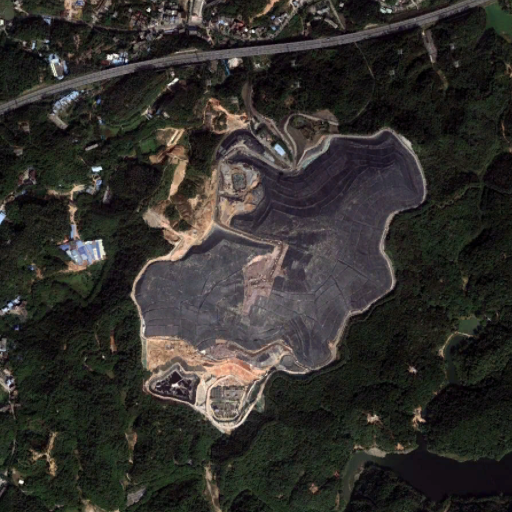lf: (134, 130, 427, 374)
